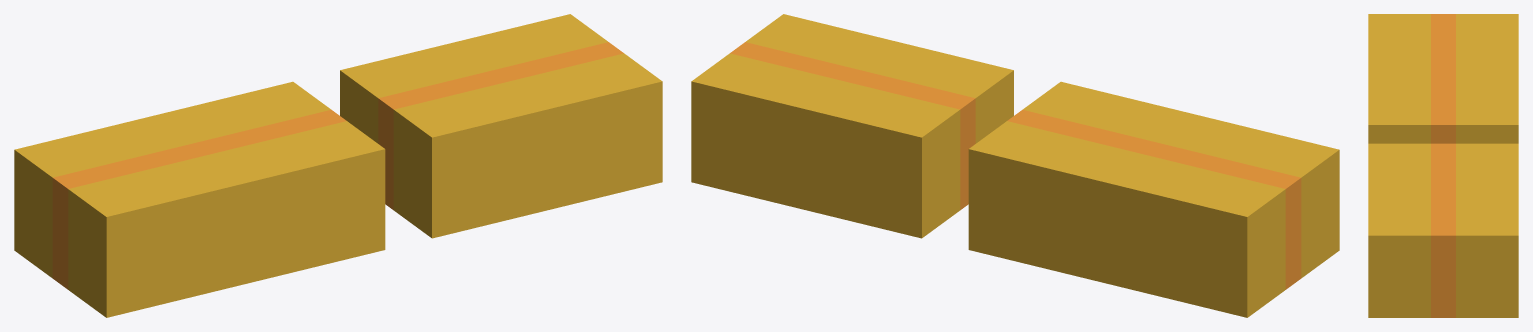
Rendered from MP_Environ_Cardboard_Boxes.fbx.
3 renders of one model, left to right at view 1: azimuth 30°, elevation 25°; view 2: azimuth 150°, elevation 25°; view 3: azimuth 270°, elevation 25°, orthographic. The views are drawn at different scales.
Visible parts, largest first — view 1: Cardboard 2, Cardboard; view 2: Cardboard 2, Cardboard; view 3: Cardboard, Cardboard 2.
Boxes of the visible parts, x1,y1,x2,y2 form: Cardboard 2: (14, 81, 385, 317); Cardboard: (340, 14, 662, 238); Cardboard 2: (968, 81, 1339, 317); Cardboard: (691, 14, 1013, 238); Cardboard: (1368, 143, 1518, 317); Cardboard 2: (1368, 14, 1518, 143).
Bounding box in the file's own units: 697 × 121 × 200.
